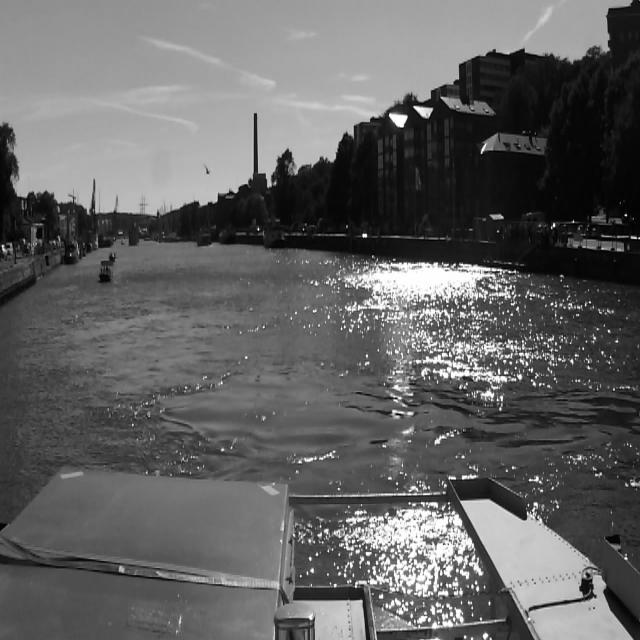ship: (261, 213, 287, 250), (97, 258, 115, 284), (218, 222, 236, 246), (128, 220, 140, 249), (108, 248, 118, 262), (120, 240, 126, 245)
